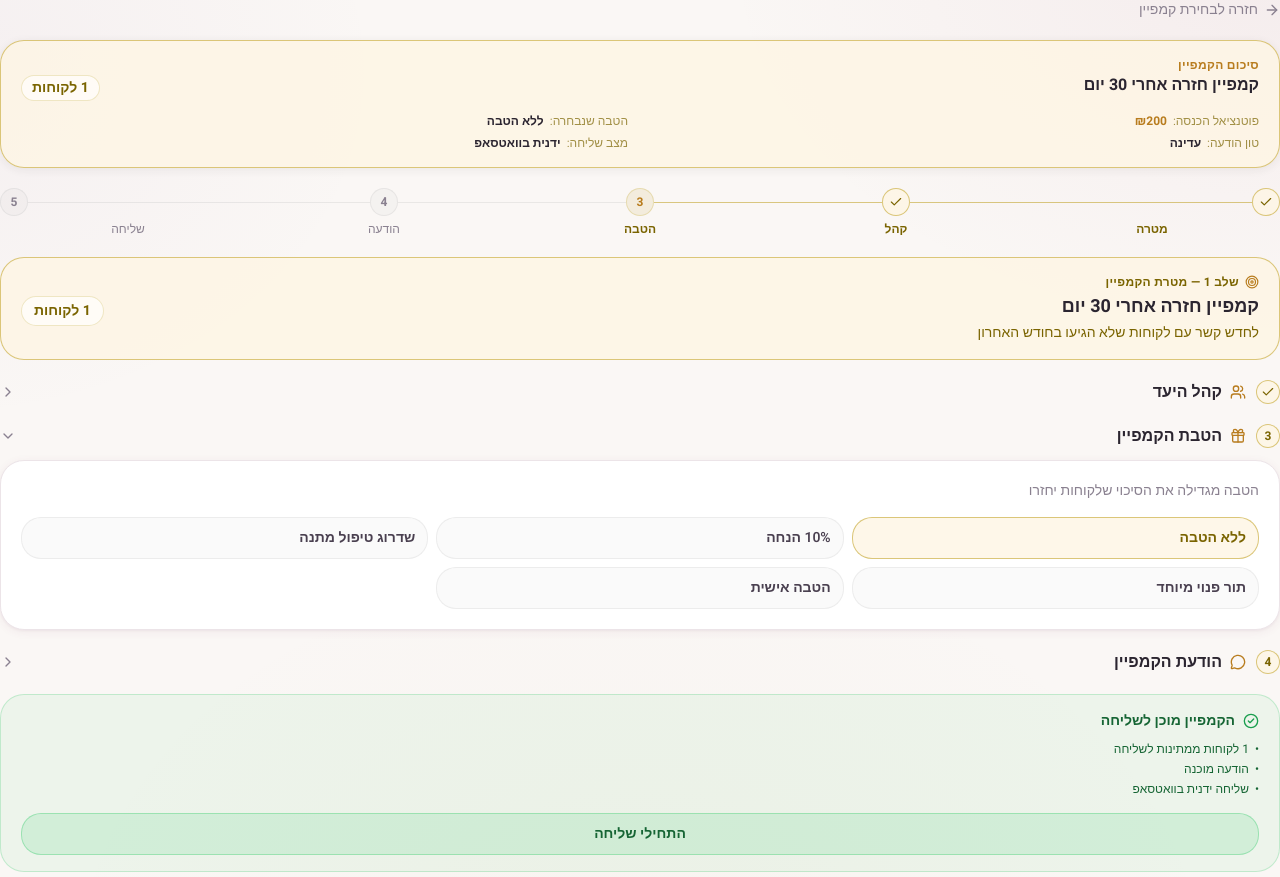
Test case: CampaignView — defaultCampaignType deep link › copies the preview message and shows the copied confirmation
The image size is (1280, 877).
Step 1. Click the button "4 הודעת הקמפיין" → (1168, 662), box [0, 650, 1279, 674]
(page scrolled)
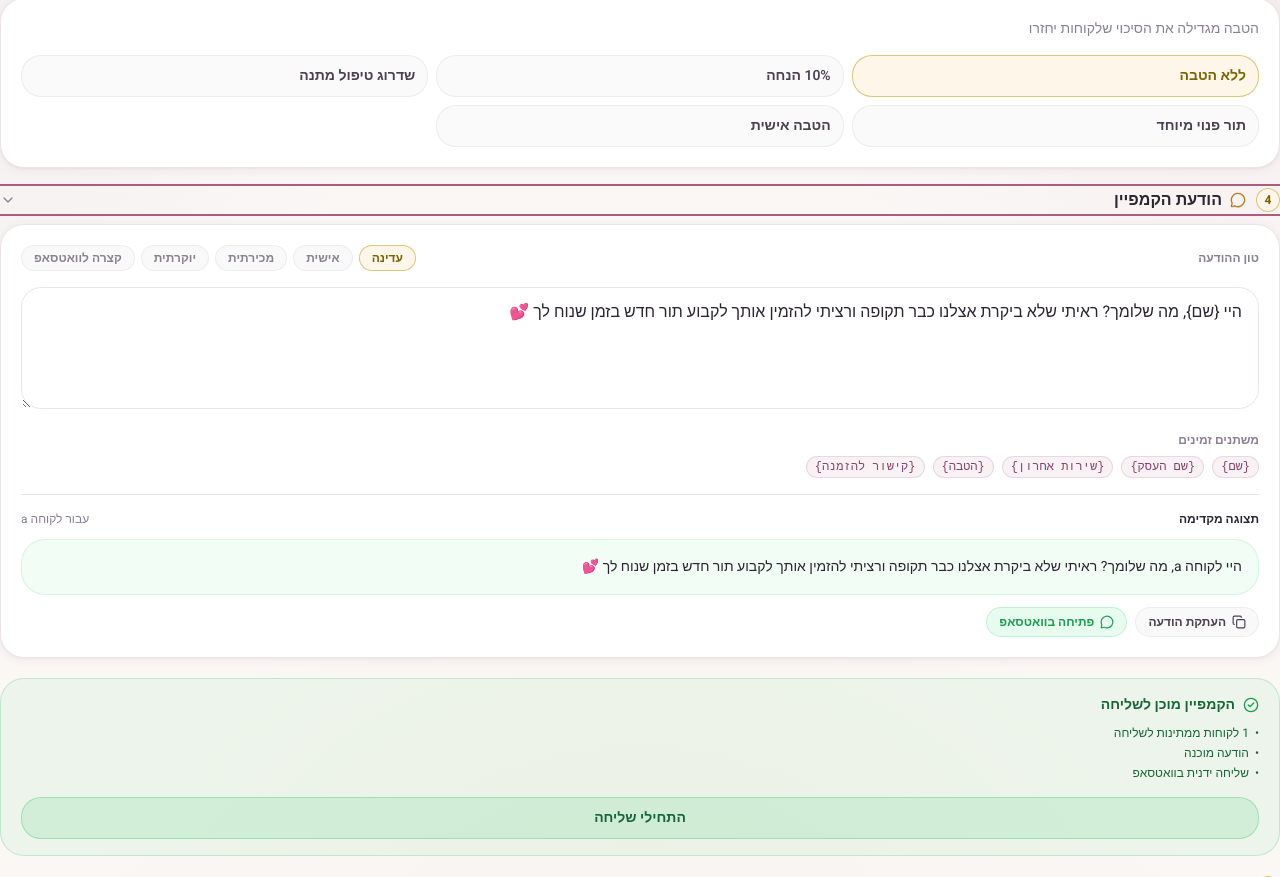
Step 2. Click the button "העתקת הודעה" → (1197, 622), box [1135, 607, 1259, 637]
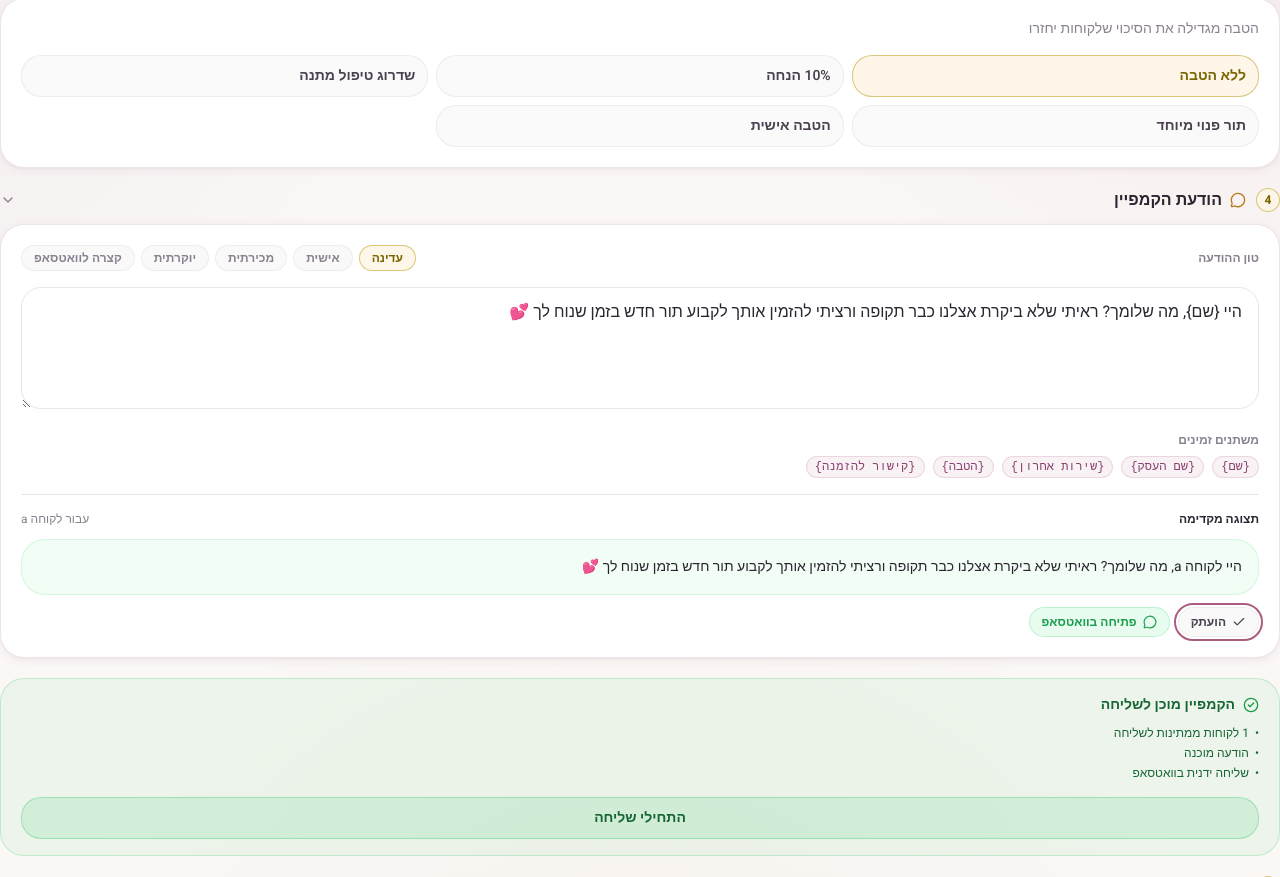
Now the button "הועתק" is shown, box [1178, 607, 1259, 637]
